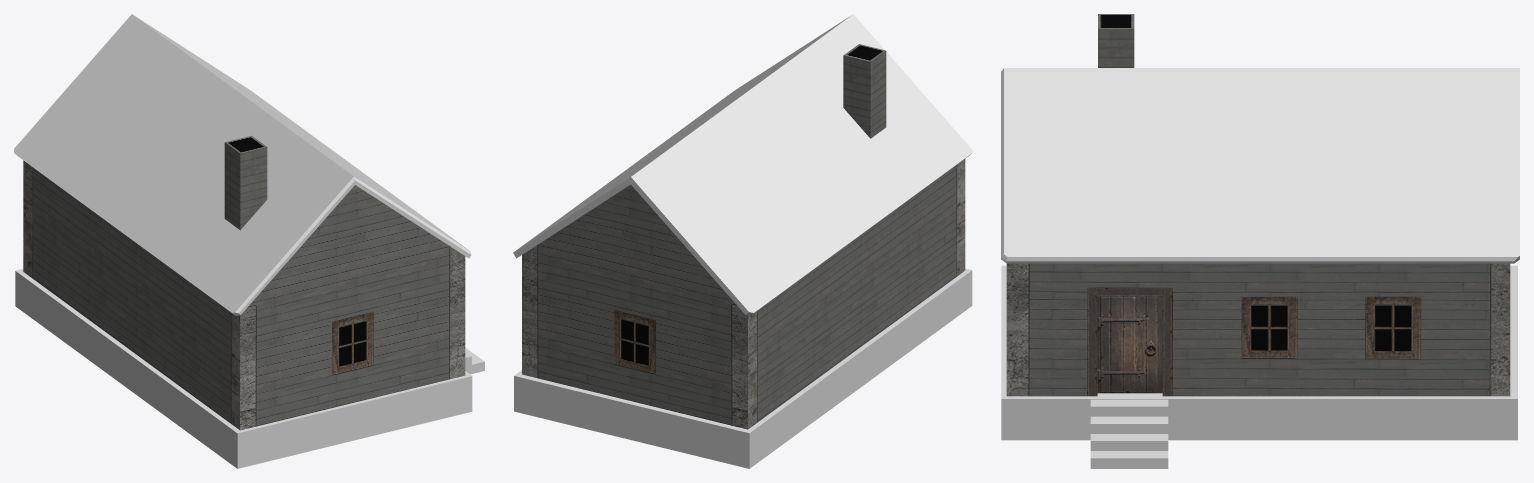
The model's file is House.fbx.
The picture shows the model from 3 angles, left to right: view 1: azimuth 30°, elevation 25°; view 2: azimuth 150°, elevation 25°; view 3: azimuth 270°, elevation 25°; orthographic projection. The views are drawn at different scales.
Visible parts, largest first — view 1: House, Snow, Base; view 2: House, Snow, Base; view 3: Snow, House, Base, Stairs.
Boxes of the visible parts, <box> form: House: <box>23,135,465,430</box>; Snow: <box>14,14,471,315</box>; Base: <box>15,269,472,468</box>; House: <box>522,44,965,429</box>; Snow: <box>513,14,972,315</box>; Base: <box>514,268,972,468</box>; Snow: <box>1001,68,1519,263</box>; House: <box>1006,14,1510,396</box>; Base: <box>1001,265,1517,440</box>; Stairs: <box>1090,399,1168,468</box>.
Size of the model in its own units: 704 by 639 by 944.
